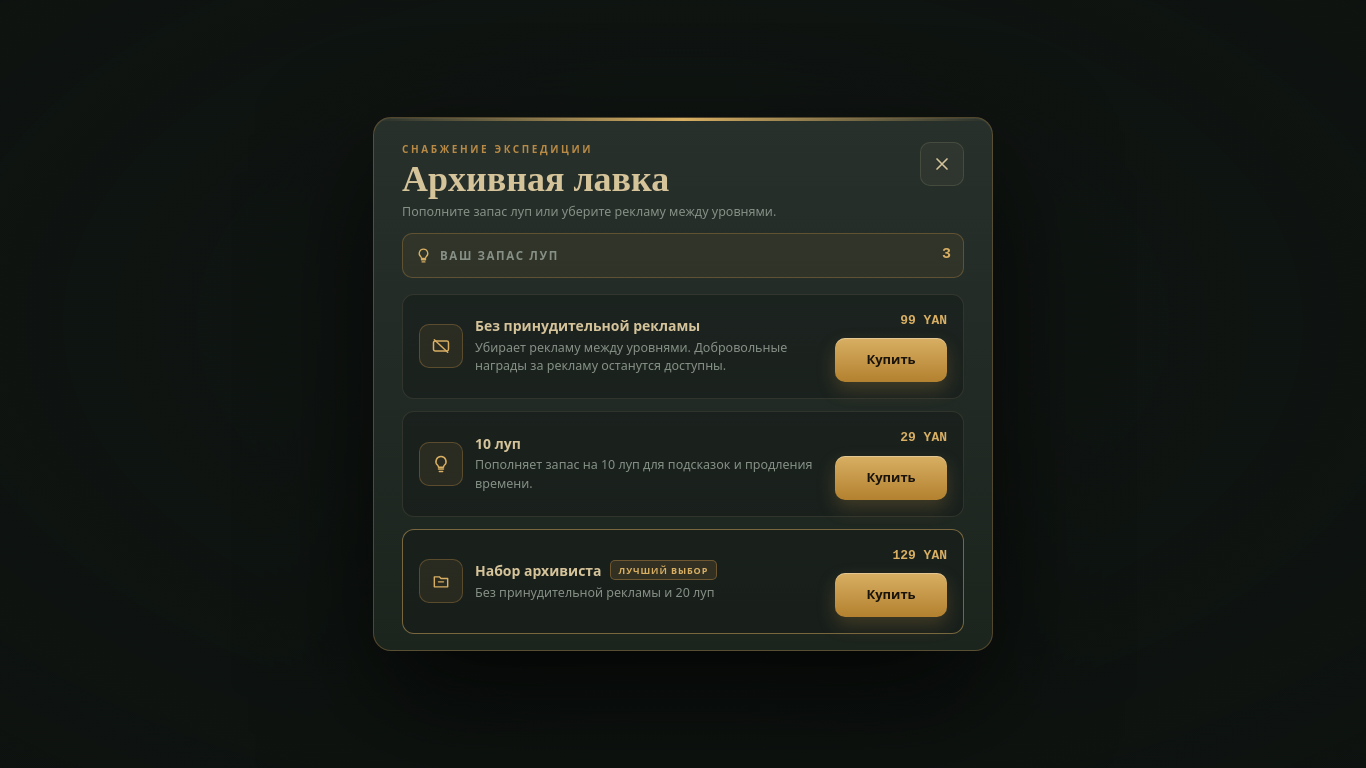
it: ShopModal › confirms a successful purchase and updates the visible balance
Expected: the heading "10 луп" is shown, left=475, top=435, right=521, bottom=452
Click the 2nd button "Купить" at point(891, 478), box left=835, top=456, right=947, bottom=500
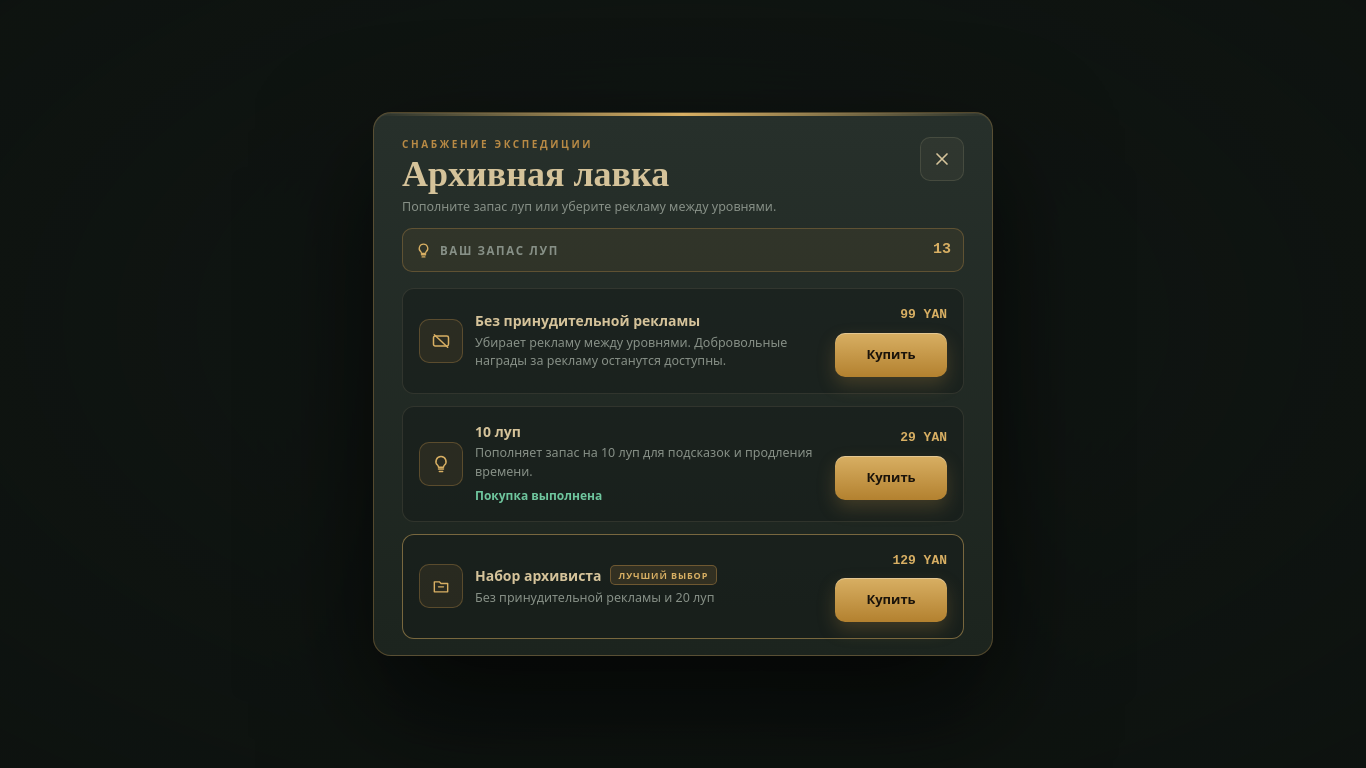
Expected: the text "Покупка выполнена" is shown, left=475, top=487, right=602, bottom=504
